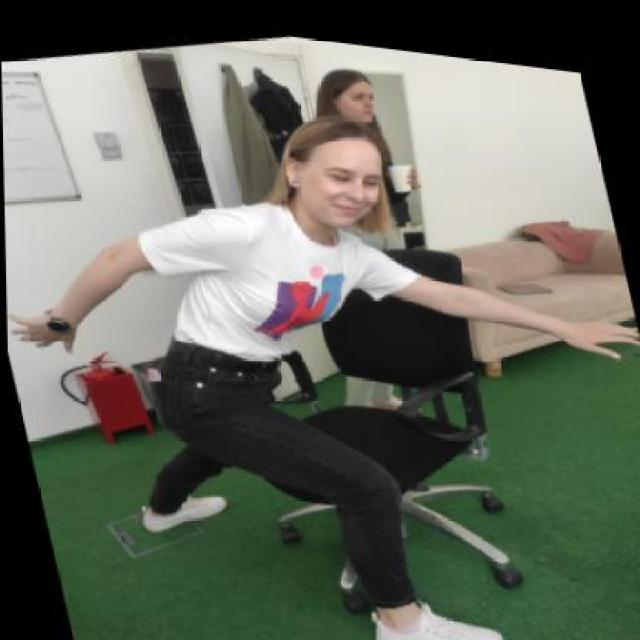chair: (202, 194, 546, 640)
